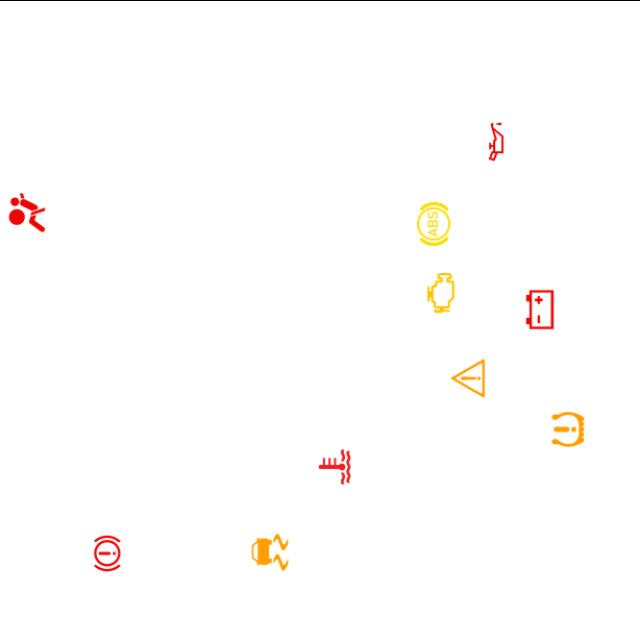Anti Lock Braking System: (410, 199, 458, 247)
Braking System Issue: (84, 528, 132, 576)
Charging System Issue: (516, 284, 564, 332)
Check Engine: (417, 268, 465, 316)
Electronic Stability Problem -ESP-: (246, 528, 294, 576)
Engine Overheating Warning Light: (311, 442, 358, 490)
Low Engine Oil Warning Light: (472, 116, 520, 164)
Low Tire Pressure Warning Light: (544, 404, 592, 452)
Master warning light: (444, 354, 492, 402)
SRS-Airbag: (3, 188, 51, 235)
